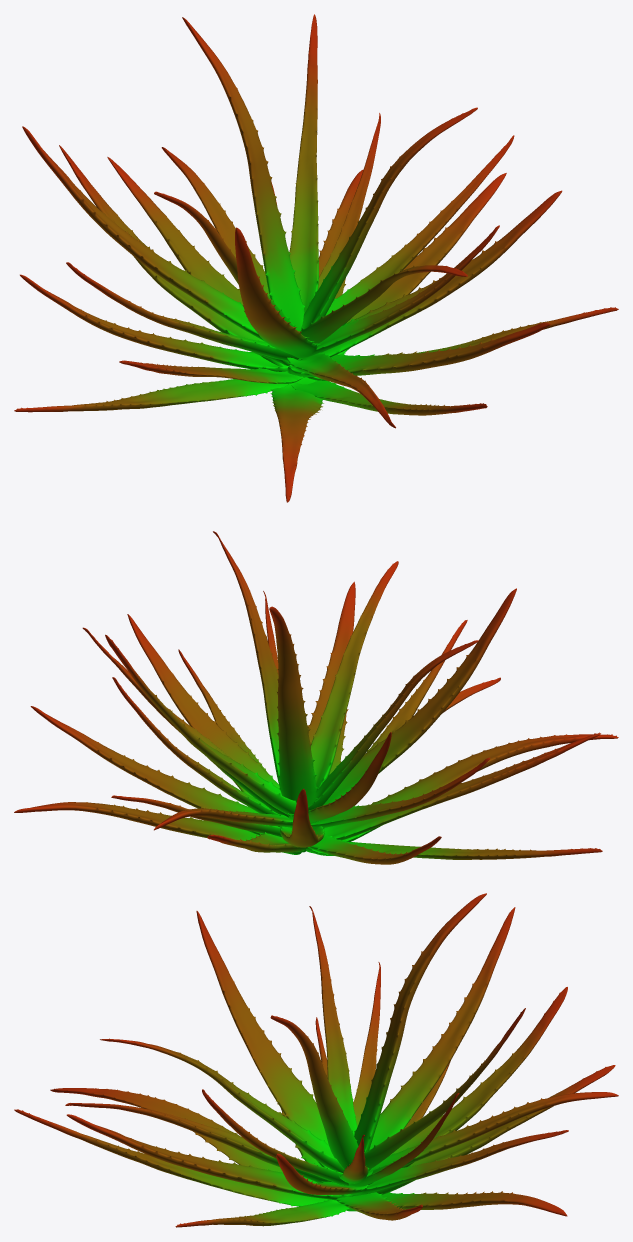
Rendered from Aloe Vera_LOD0_Var6_ve4tbbrha.fbx.
3 renders of one model, top to bottom at view 1: azimuth 30°, elevation 25°; view 2: azimuth 150°, elevation 25°; view 3: azimuth 270°, elevation 25°, orthographic. The views are drawn at different scales.
Parts seen in each view (by area): view 1: _qa9i_Var6_LOD0; view 2: _qa9i_Var6_LOD0; view 3: _qa9i_Var6_LOD0.
Boxes of the visible parts, left/top/right/bottom form: _qa9i_Var6_LOD0: left=14, top=14, right=618, bottom=502; _qa9i_Var6_LOD0: left=14, top=531, right=618, bottom=864; _qa9i_Var6_LOD0: left=14, top=893, right=618, bottom=1227.
Size of the model in its own units: 86.78 by 48.94 by 90.05.
